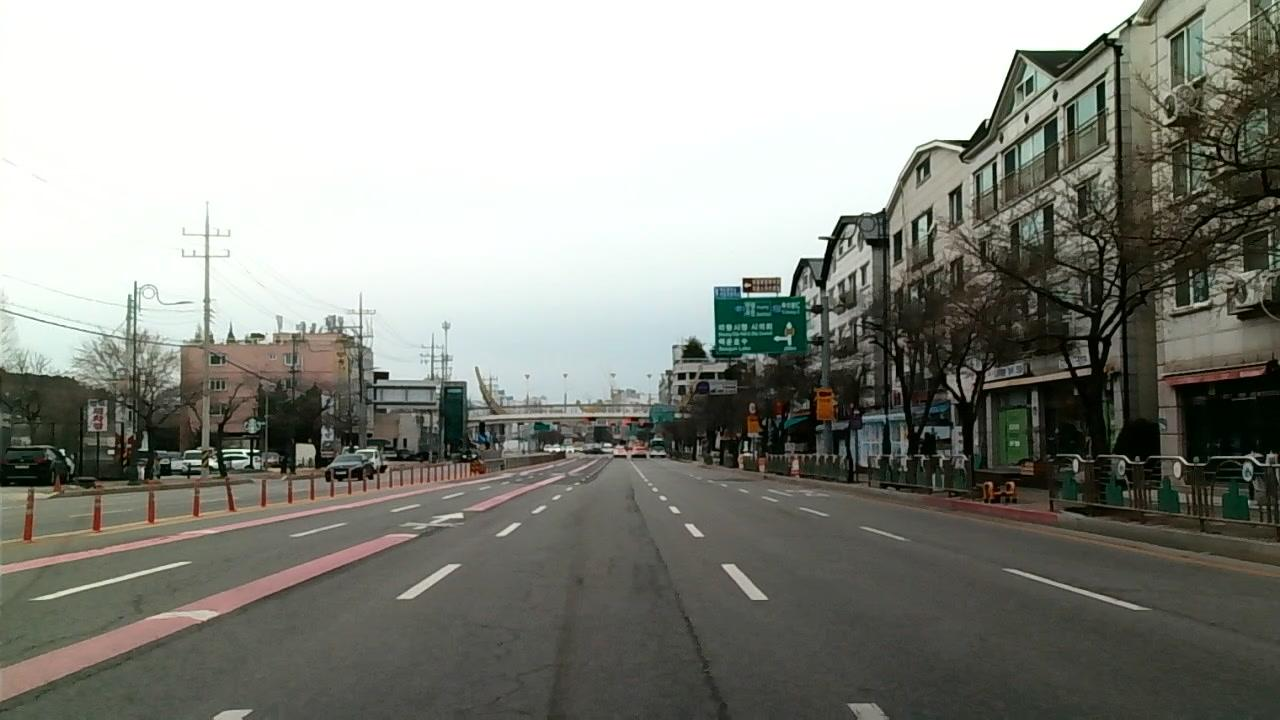vcrack: (654, 540, 731, 718), (1, 635, 168, 714), (490, 660, 568, 710)
